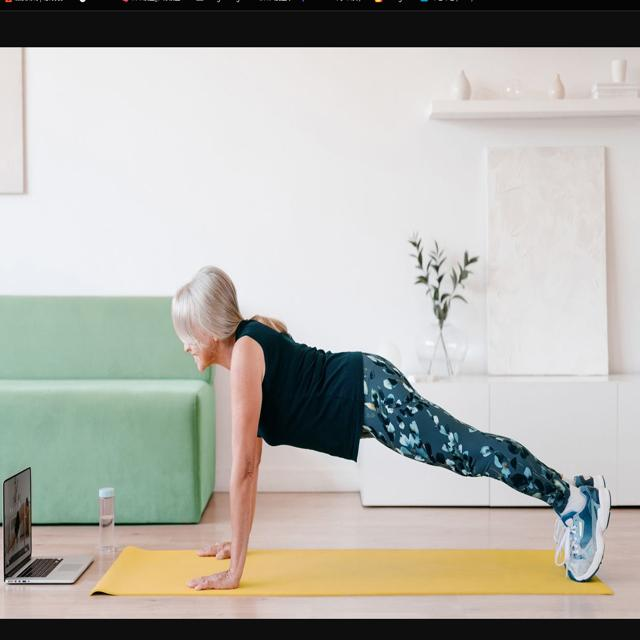Plank_Pose: (158, 260, 621, 598)
